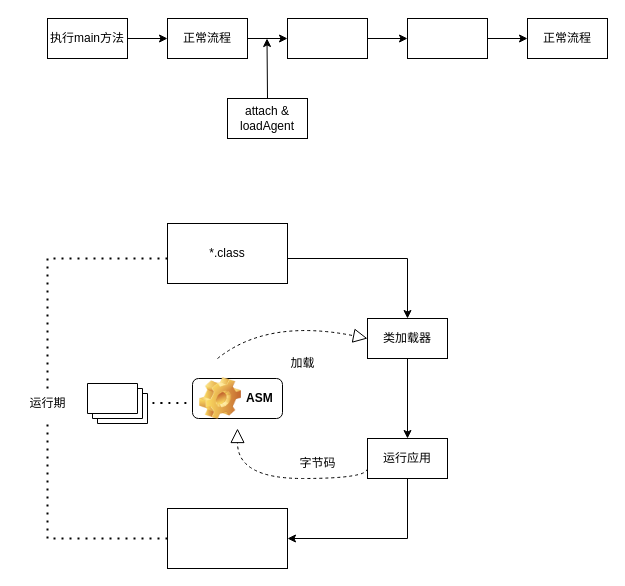
The diagram is 625 pixels wide and 586 high, and some of its shapes have lost their labels. Each missing label, with the centre of its shape:
"IAST" goes at (x=117, y=403).
"OS" goes at (x=227, y=538).
"执行 agentmain方法" goes at (x=447, y=38).
"找到 agent.jar" goes at (x=327, y=38).
